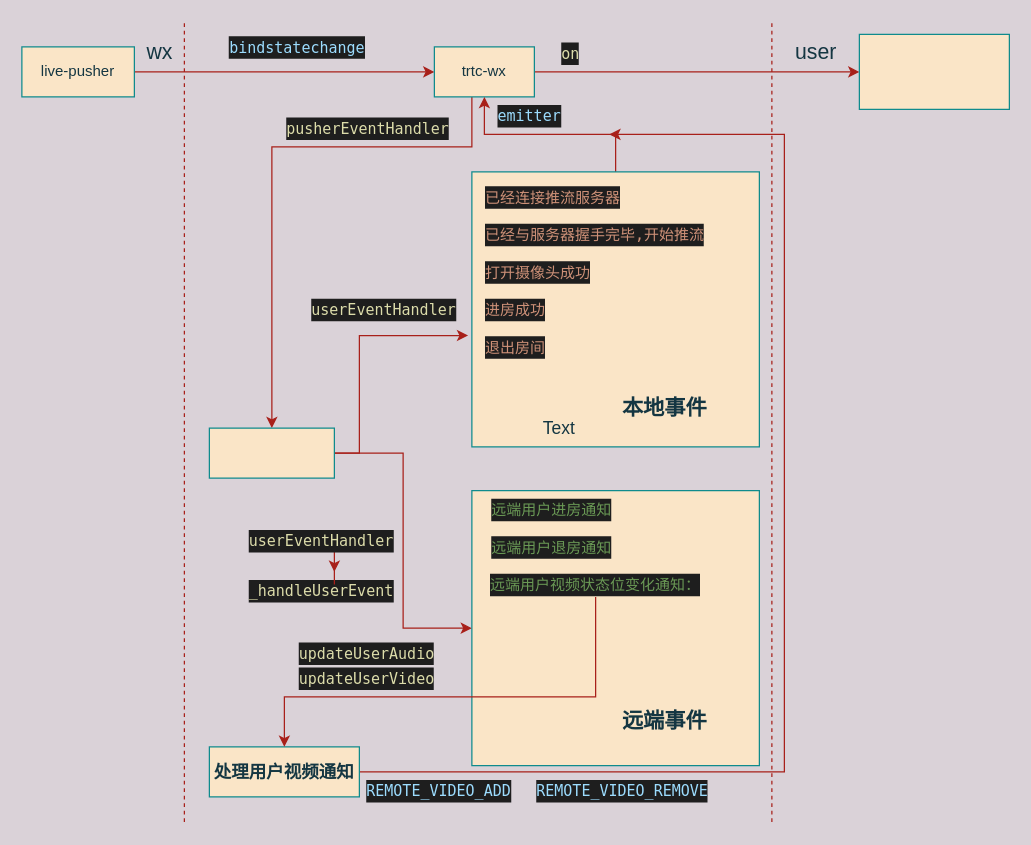
Some shapes in this 1031 by 845 pixel diagram are drawn without their labels. The centre of each missing label's shape, as x and y in pixels:
"userConroller" goes at point 271,452.
"回调处理" goes at point 933,71.
